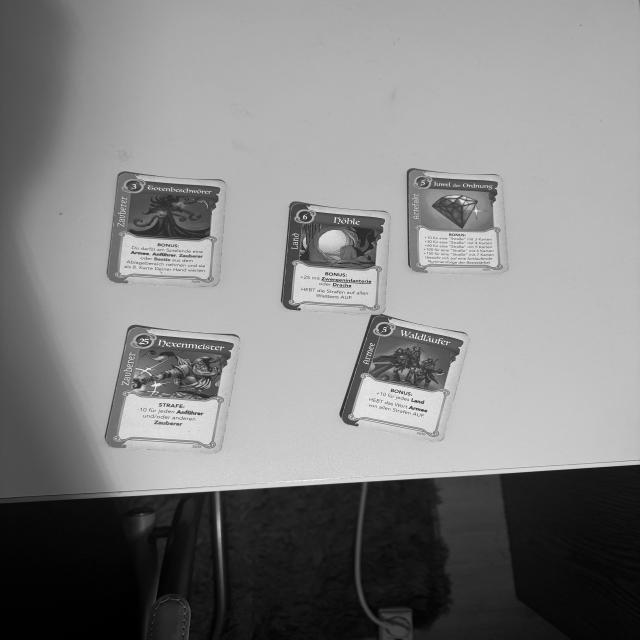Gem Of Order: (406, 169, 512, 272)
Necromancer: (106, 174, 230, 290)
Rangers: (340, 315, 472, 443)
Underground Caverns: (283, 202, 391, 313)
Warlock Lord: (104, 323, 244, 456)
